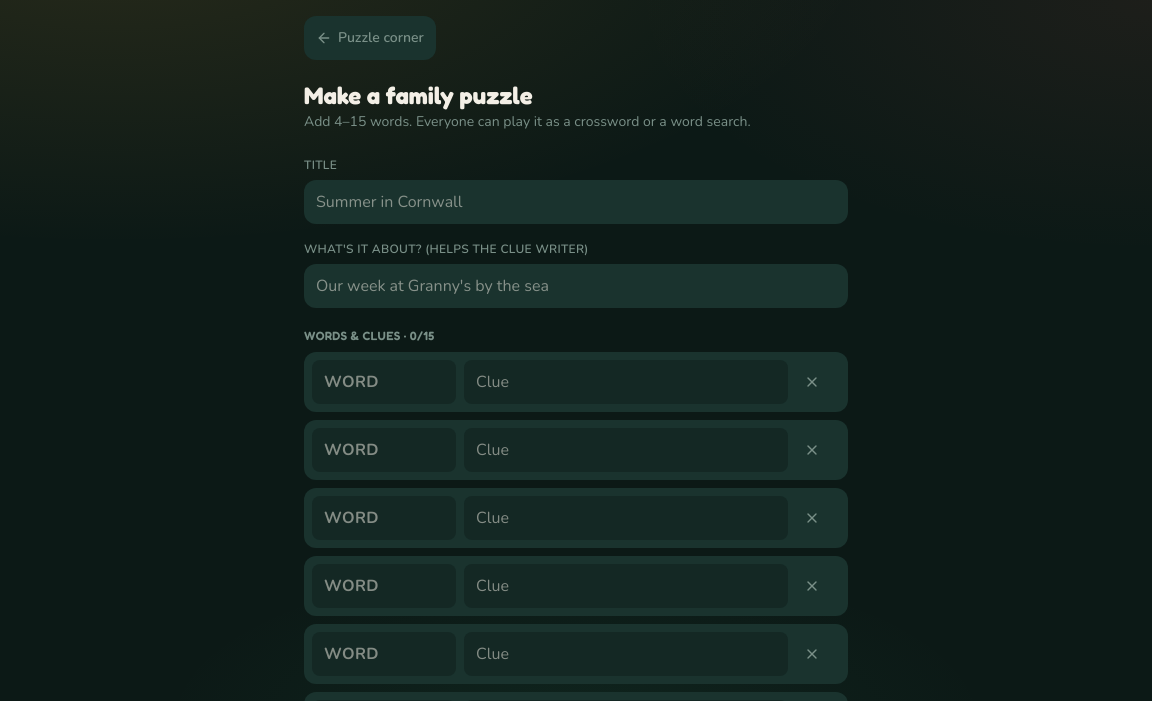
it: PuzzleMaker › explains when the clue helper is not switched on
Type "beach" into the 1st field with placeholder "WORD" at (384, 382), box [312,360,456,404]
(page scrolled)
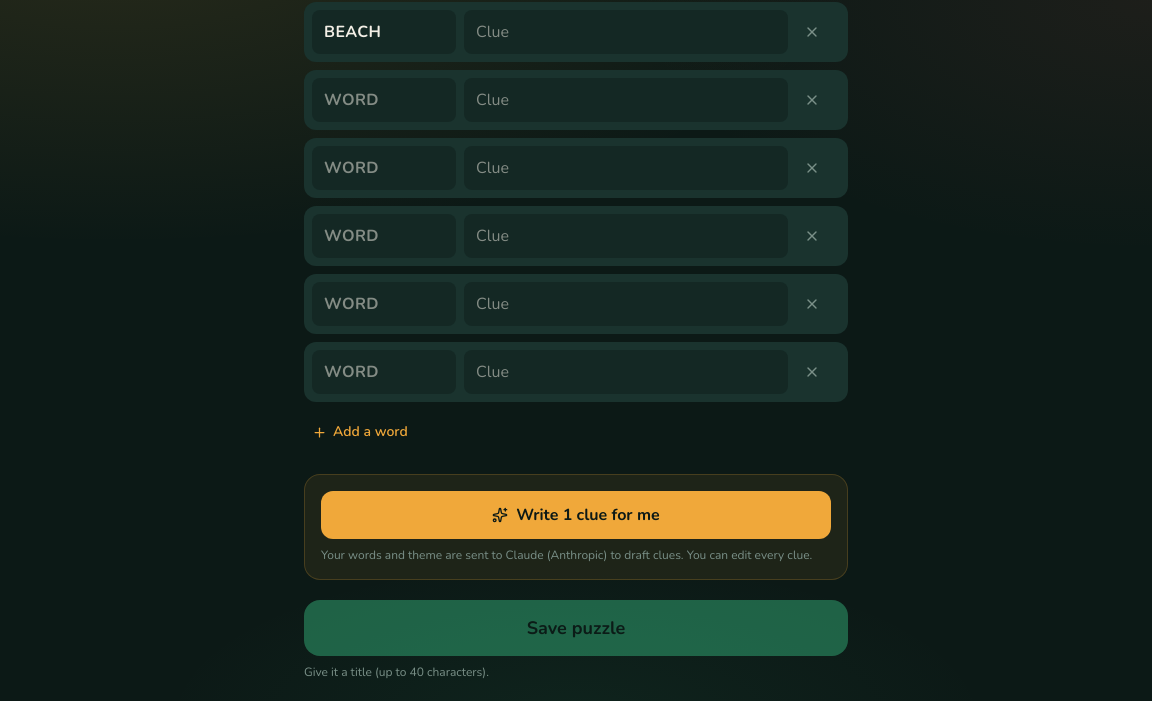
Click the button "Write 1 clue for me" at (576, 515), box [321,491,831,539]
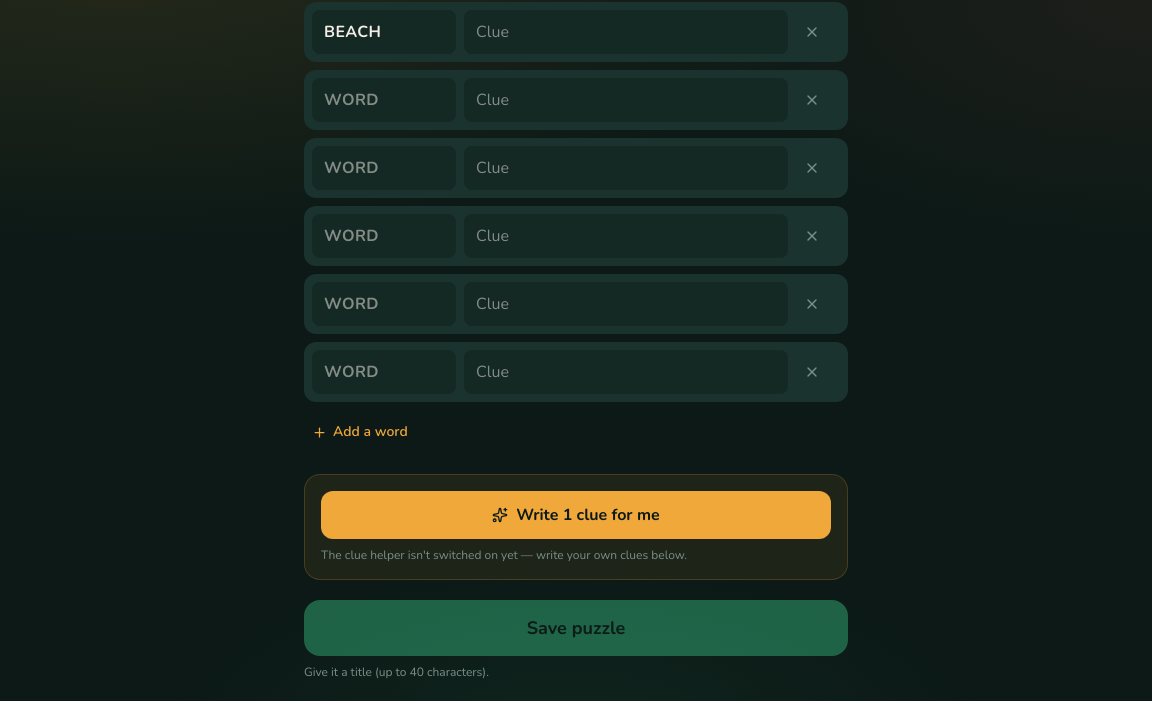
Now the text "The clue helper isn't switched on yet — write your own clues below." is shown, box [321,547,687,563]
